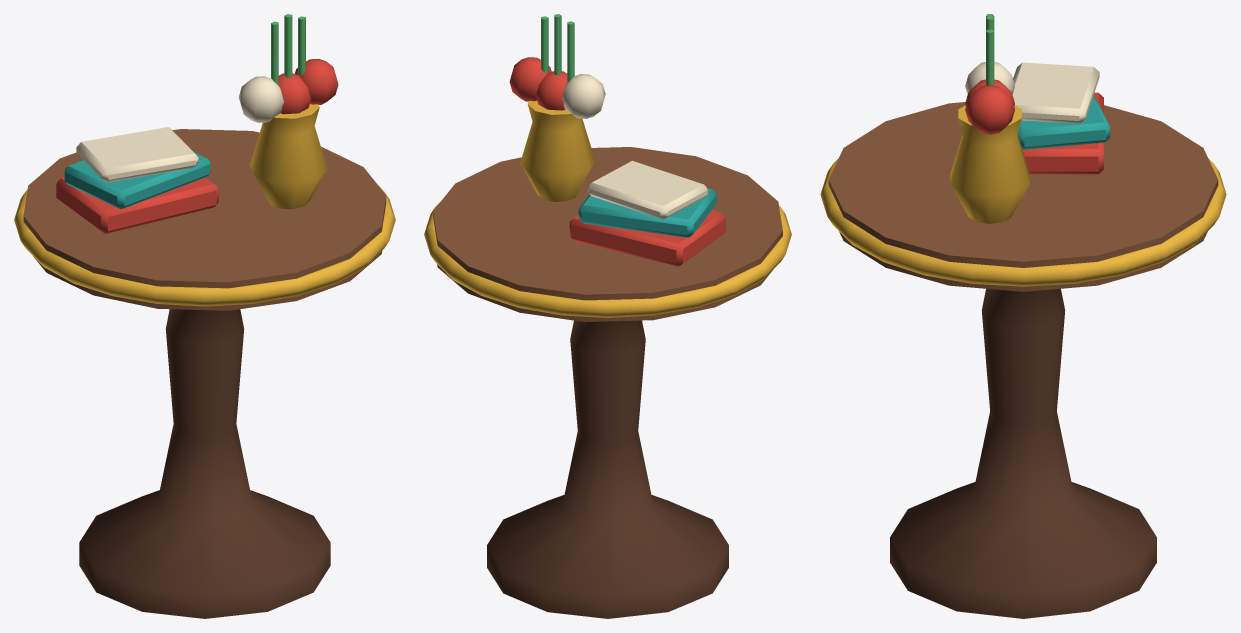
Rendered from side_table.glb.
3 views of the same model, side by side, from view 1: azimuth 30°, elevation 25°; view 2: azimuth 150°, elevation 25°; view 3: azimuth 270°, elevation 25° (orthographic). The views are drawn at different scales.
Visible parts, largest first — view 1: side_table; view 2: side_table; view 3: side_table.
Part boxes in pixels (bbox=[...]): side_table: bbox=[14, 14, 395, 618]; side_table: bbox=[424, 14, 791, 618]; side_table: bbox=[820, 14, 1226, 618].
Size of the model in its own units: 0.73 by 1.15 by 0.73.
